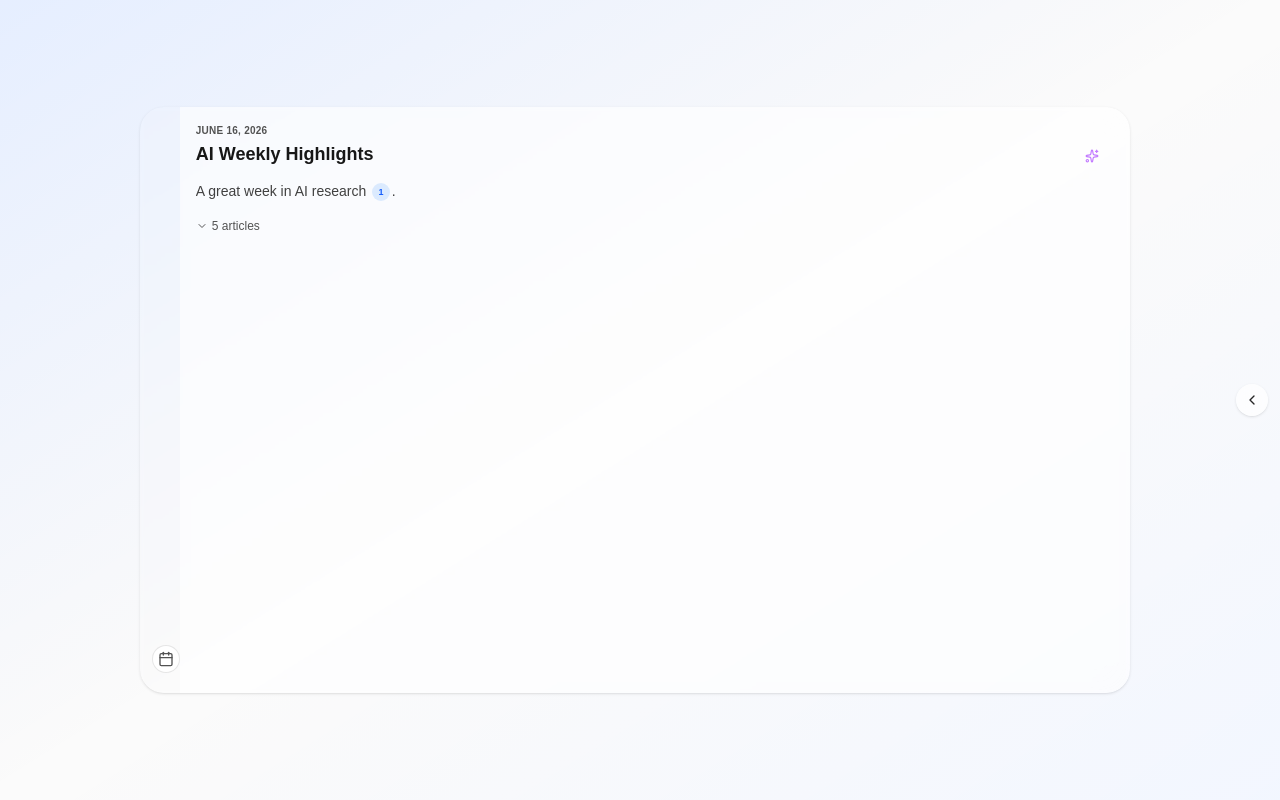
Test: WeeklyReportWidget › renders a clickable citation marker when summary_text references a source
Click the button "5 articles" at (228,226), box [196,218,260,234]
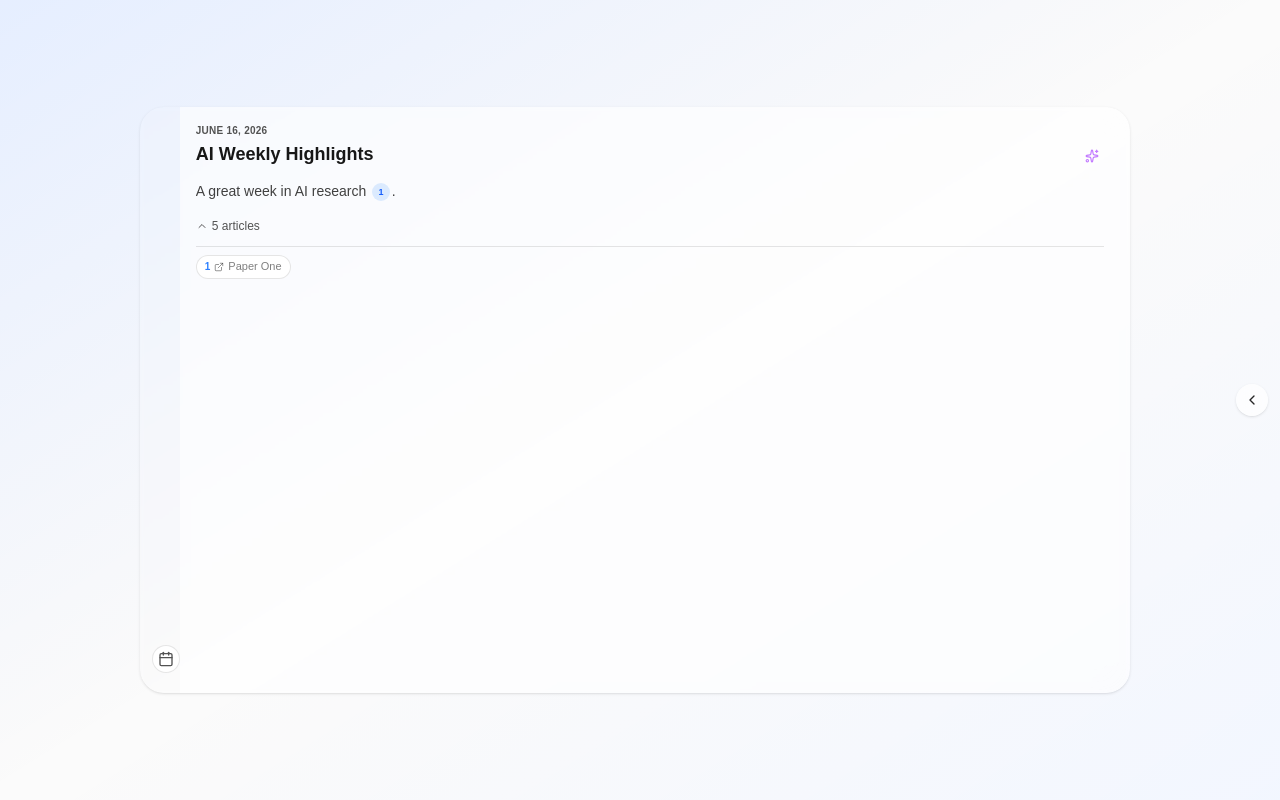
Result: the button "1 Paper One" is shown at [196,256,291,279]
